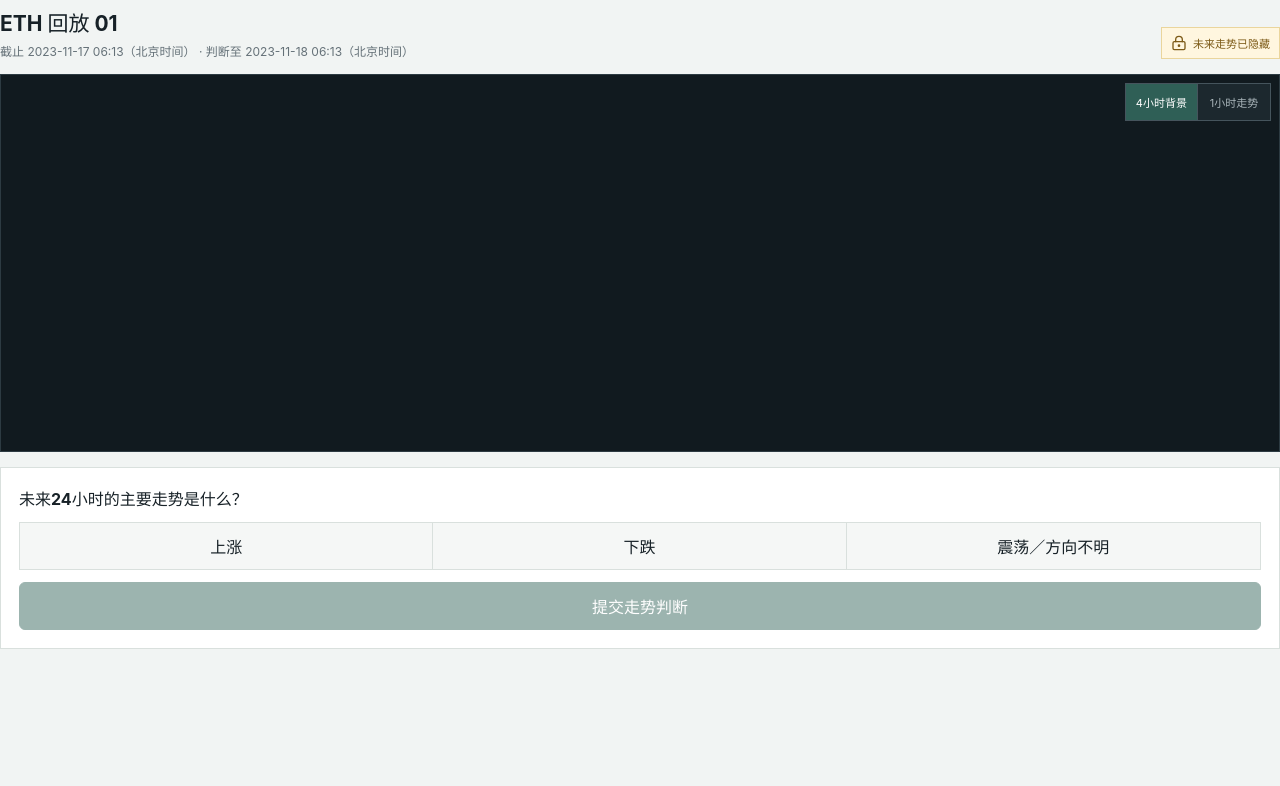
ReplayStep › keeps the standard continue label when no override is supplied
Click the radio button labelled "上涨".
click(227, 546)  # box [20, 523, 433, 569]
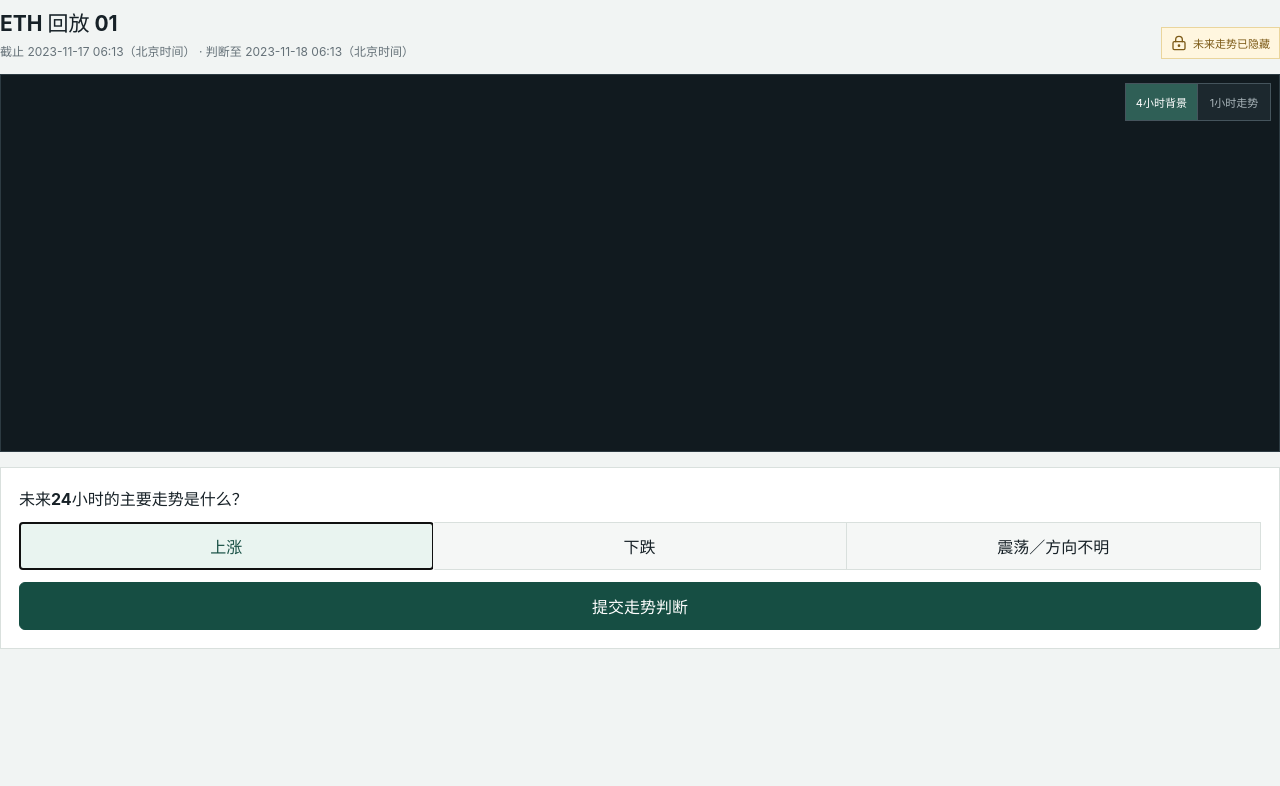
Click the button "提交走势判断".
click(640, 606)  # box [19, 582, 1261, 630]
(page scrolled)
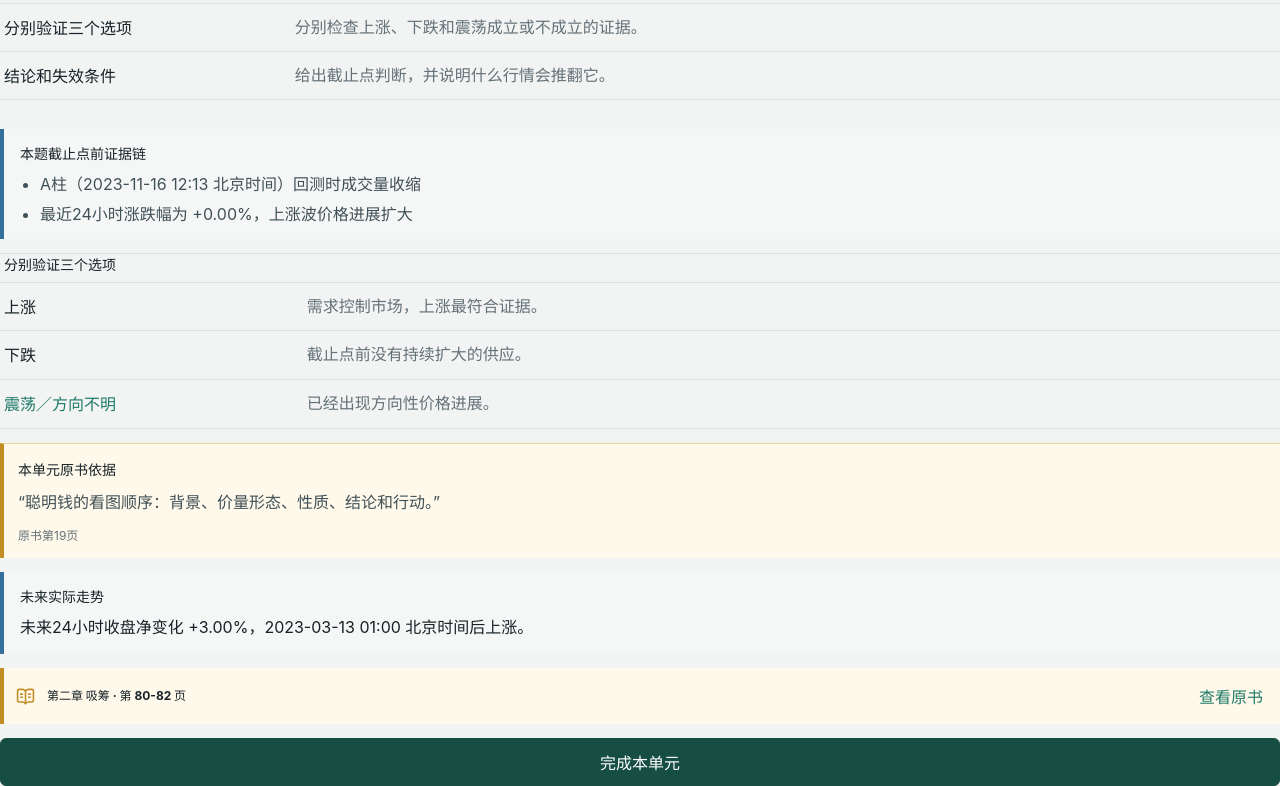
Expected: the button "完成本单元" is shown, [0, 738, 1279, 785]
